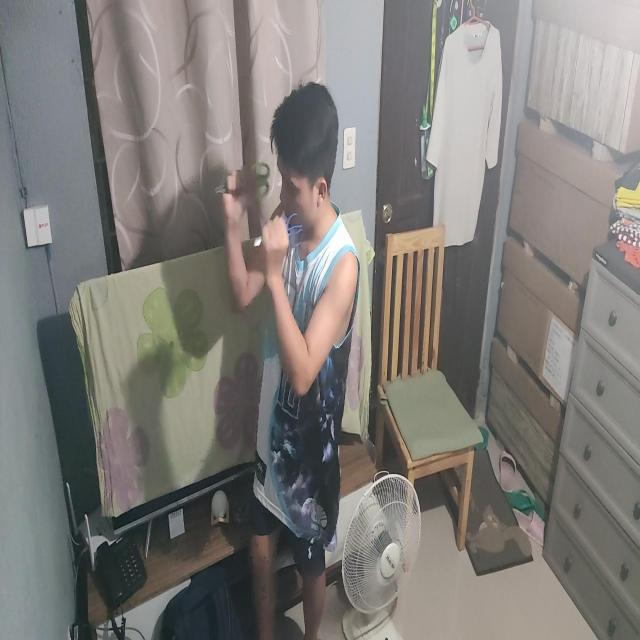scissor: (251, 209, 306, 256), (216, 158, 270, 205)
